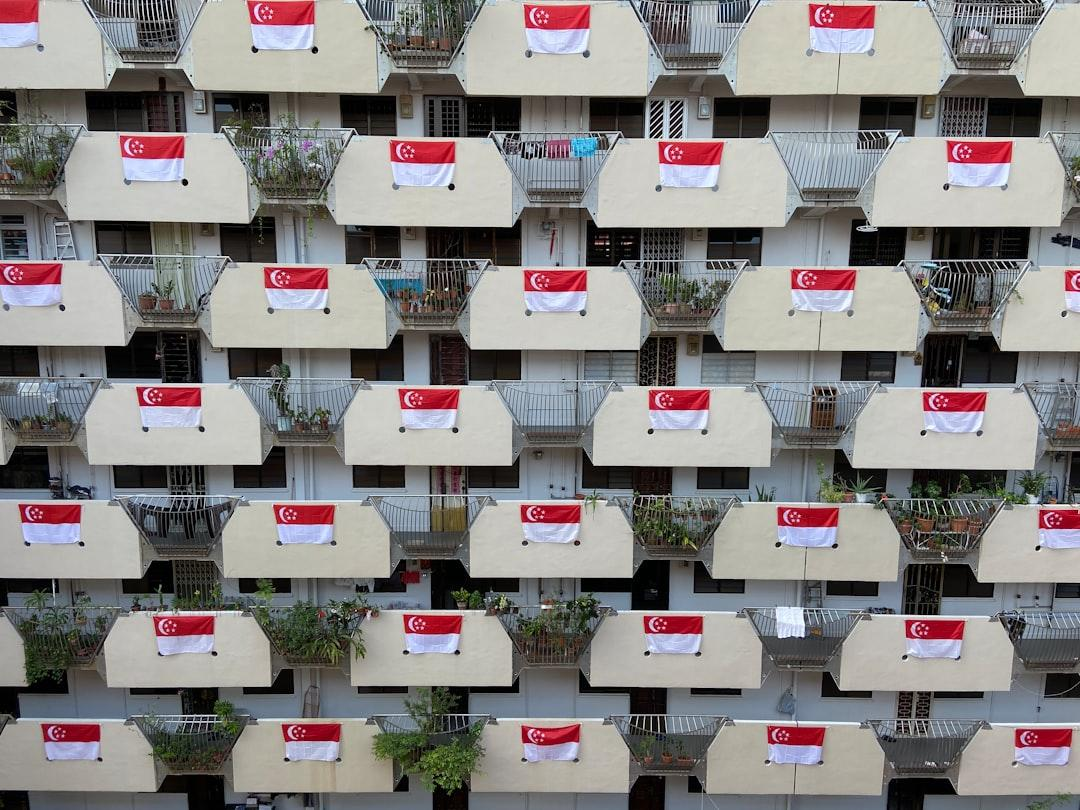Singapore: (519, 0, 596, 54), (520, 265, 595, 320), (945, 137, 1016, 194), (655, 138, 725, 194), (392, 137, 460, 190), (808, 6, 880, 54), (791, 267, 860, 317), (123, 131, 187, 184), (0, 262, 69, 311), (248, 3, 318, 50), (774, 506, 848, 549), (135, 386, 207, 430), (271, 505, 343, 546), (517, 506, 587, 547), (16, 506, 87, 545), (653, 385, 713, 431), (397, 388, 462, 430), (922, 393, 989, 433), (266, 267, 328, 309)
